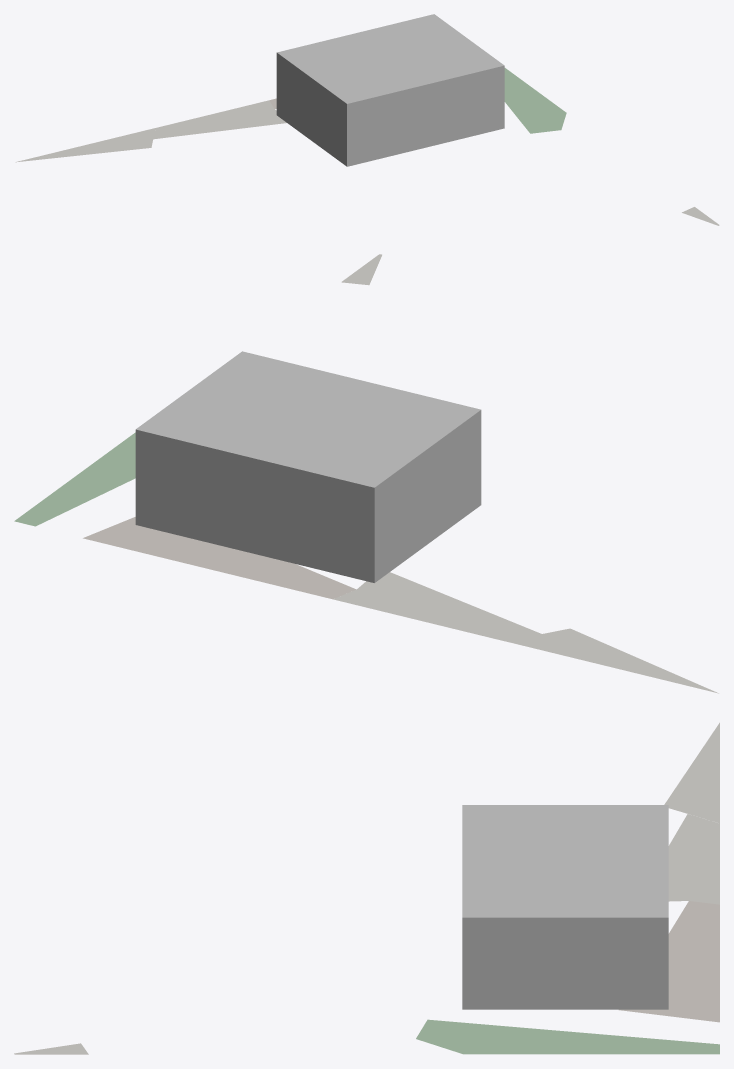
The model's file is 103_98_mid.glb.
The picture shows the model from 3 angles, top to bottom: view 1: azimuth 30°, elevation 25°; view 2: azimuth 150°, elevation 25°; view 3: azimuth 270°, elevation 25°; orthographic projection. The views are drawn at different scales.
Bounding box in the file's own units: 465 × 60.21 × 417.
